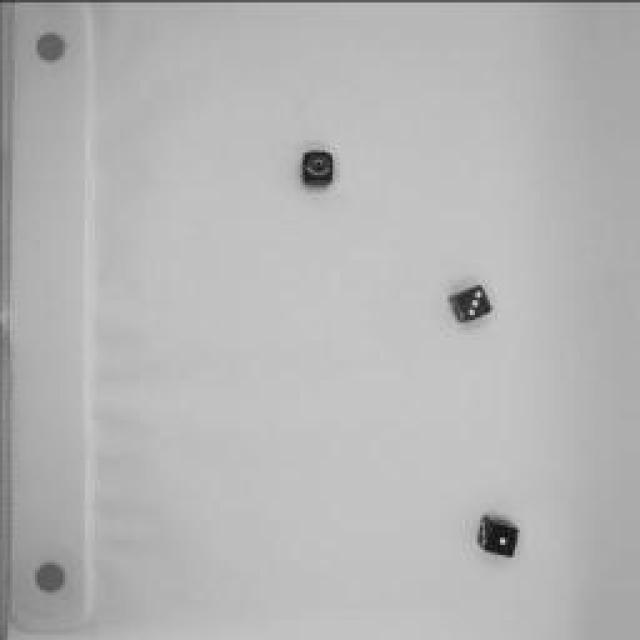dice_1: (470, 510, 525, 562), (299, 146, 339, 189)
dice_3: (441, 278, 499, 328)
